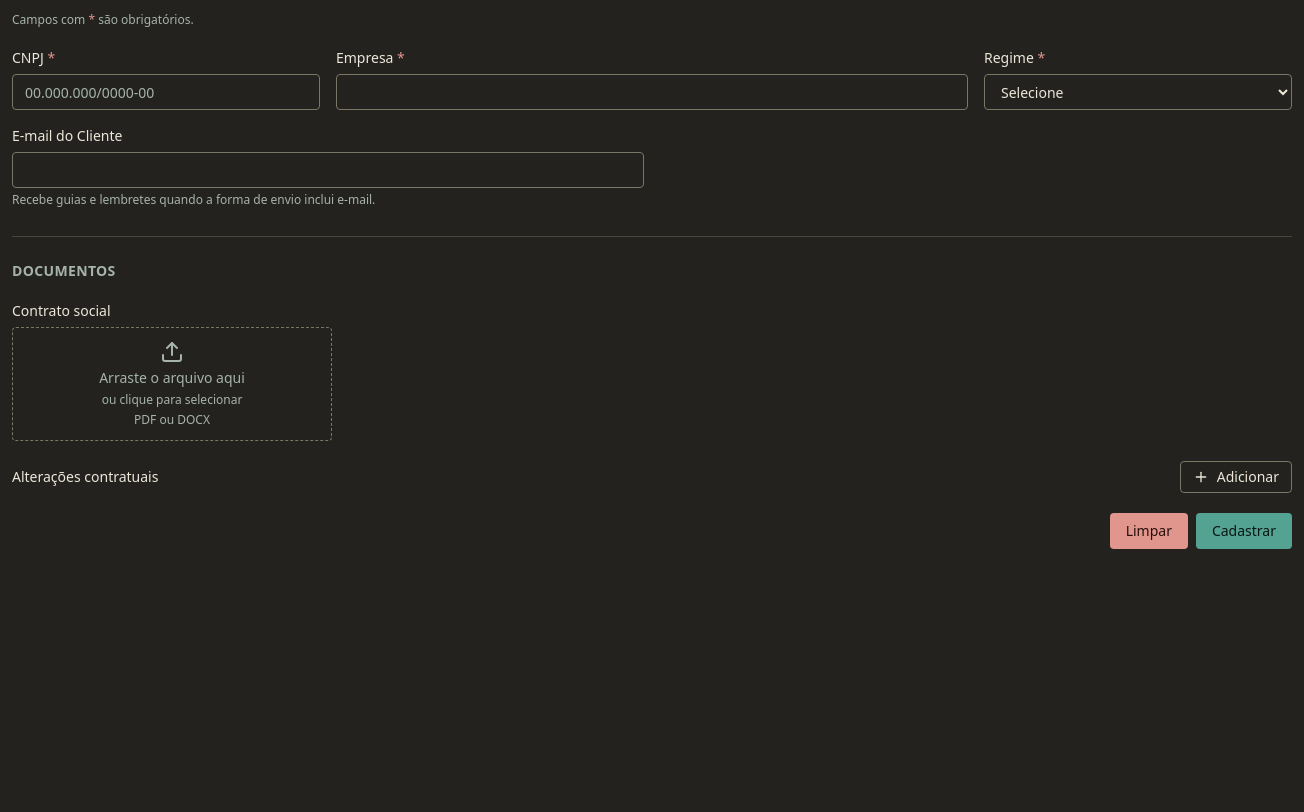
Test: CriarClienteContainer › adiciona e remove uma linha de alteração contratual
The width and height of the screenshot is (1304, 812).
Click the button "Adicionar": point(1236, 477) [1180, 461, 1292, 493]
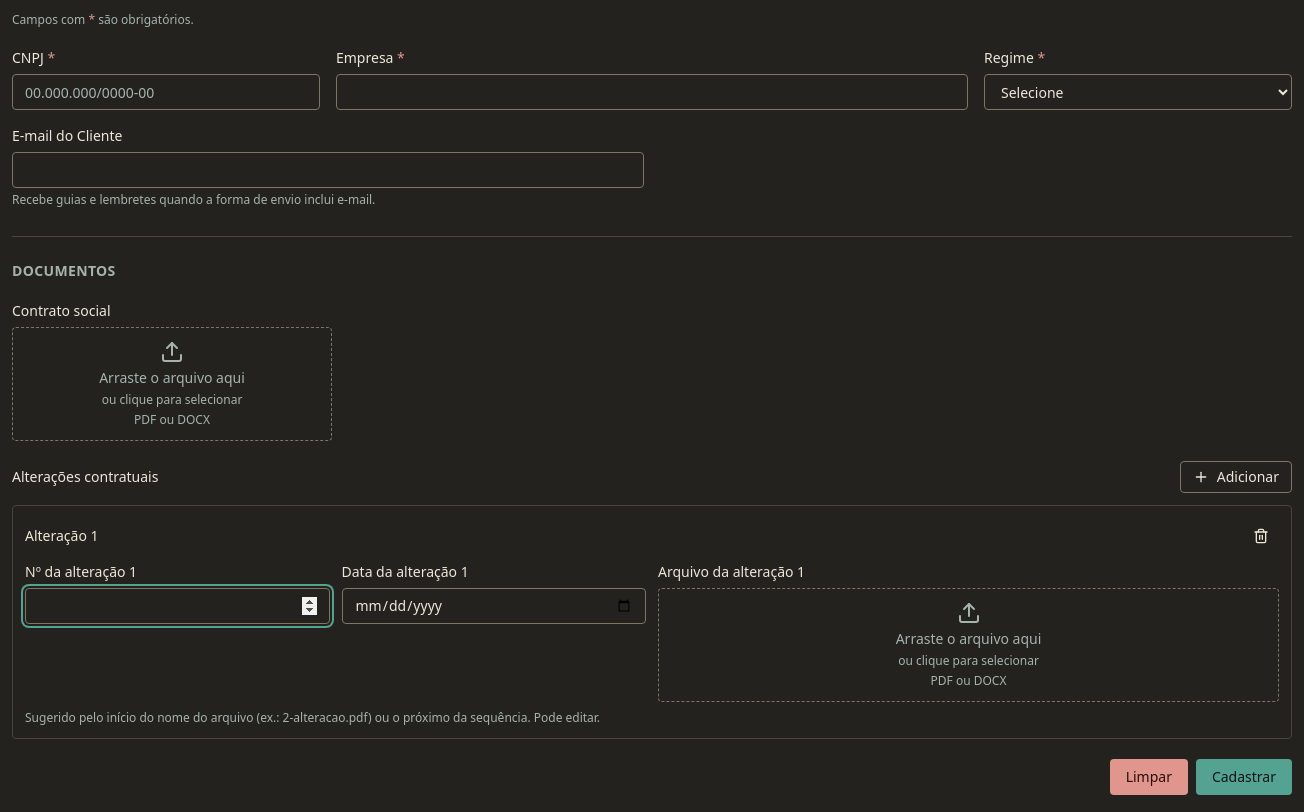
expect the text "Alteração 1" is shown: met, box [25, 526, 99, 546]
Click the button named "Remover alteração 1": point(1261, 536) [1243, 518, 1279, 554]
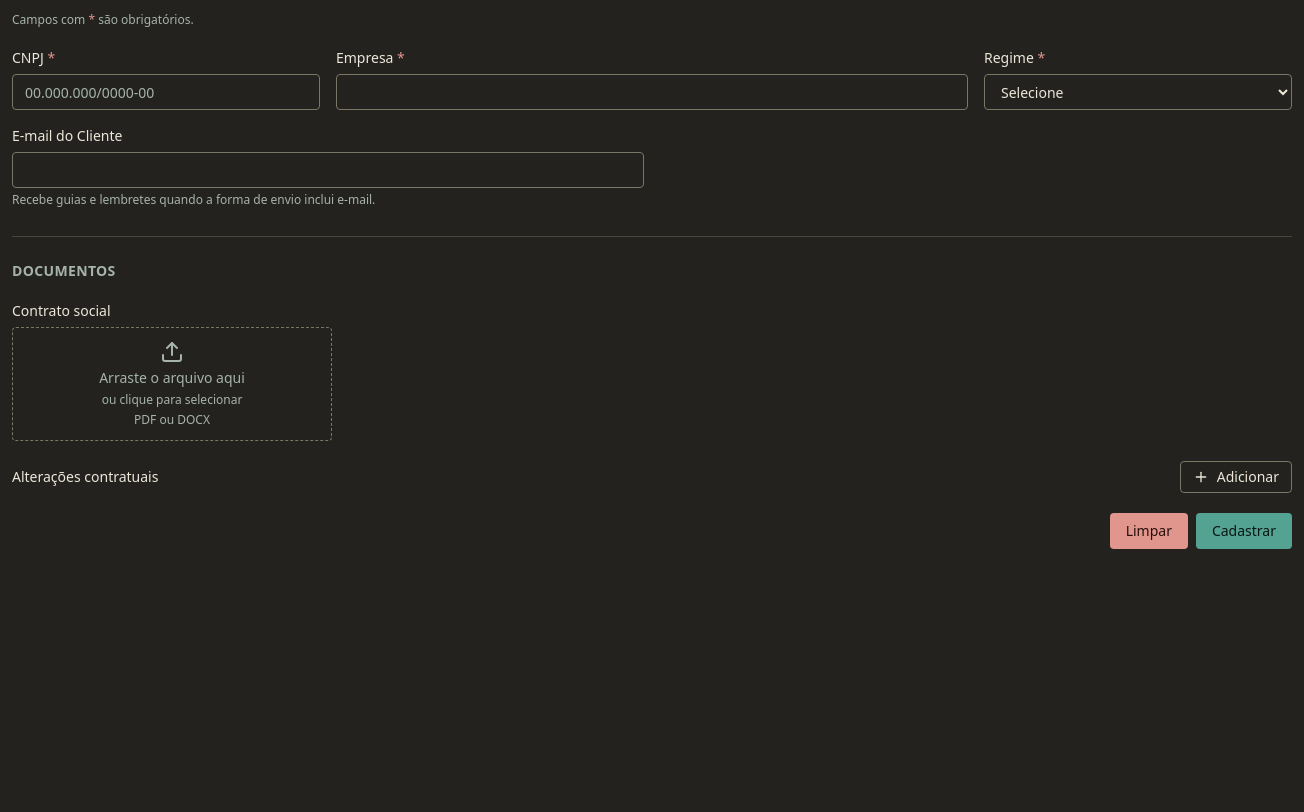
expect the text "Alteração 1" is gone: met
